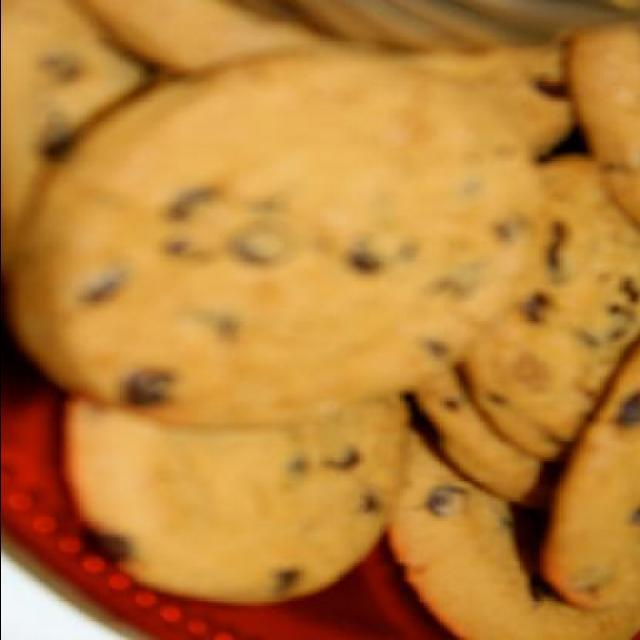Cookie: (2, 0, 640, 638)
